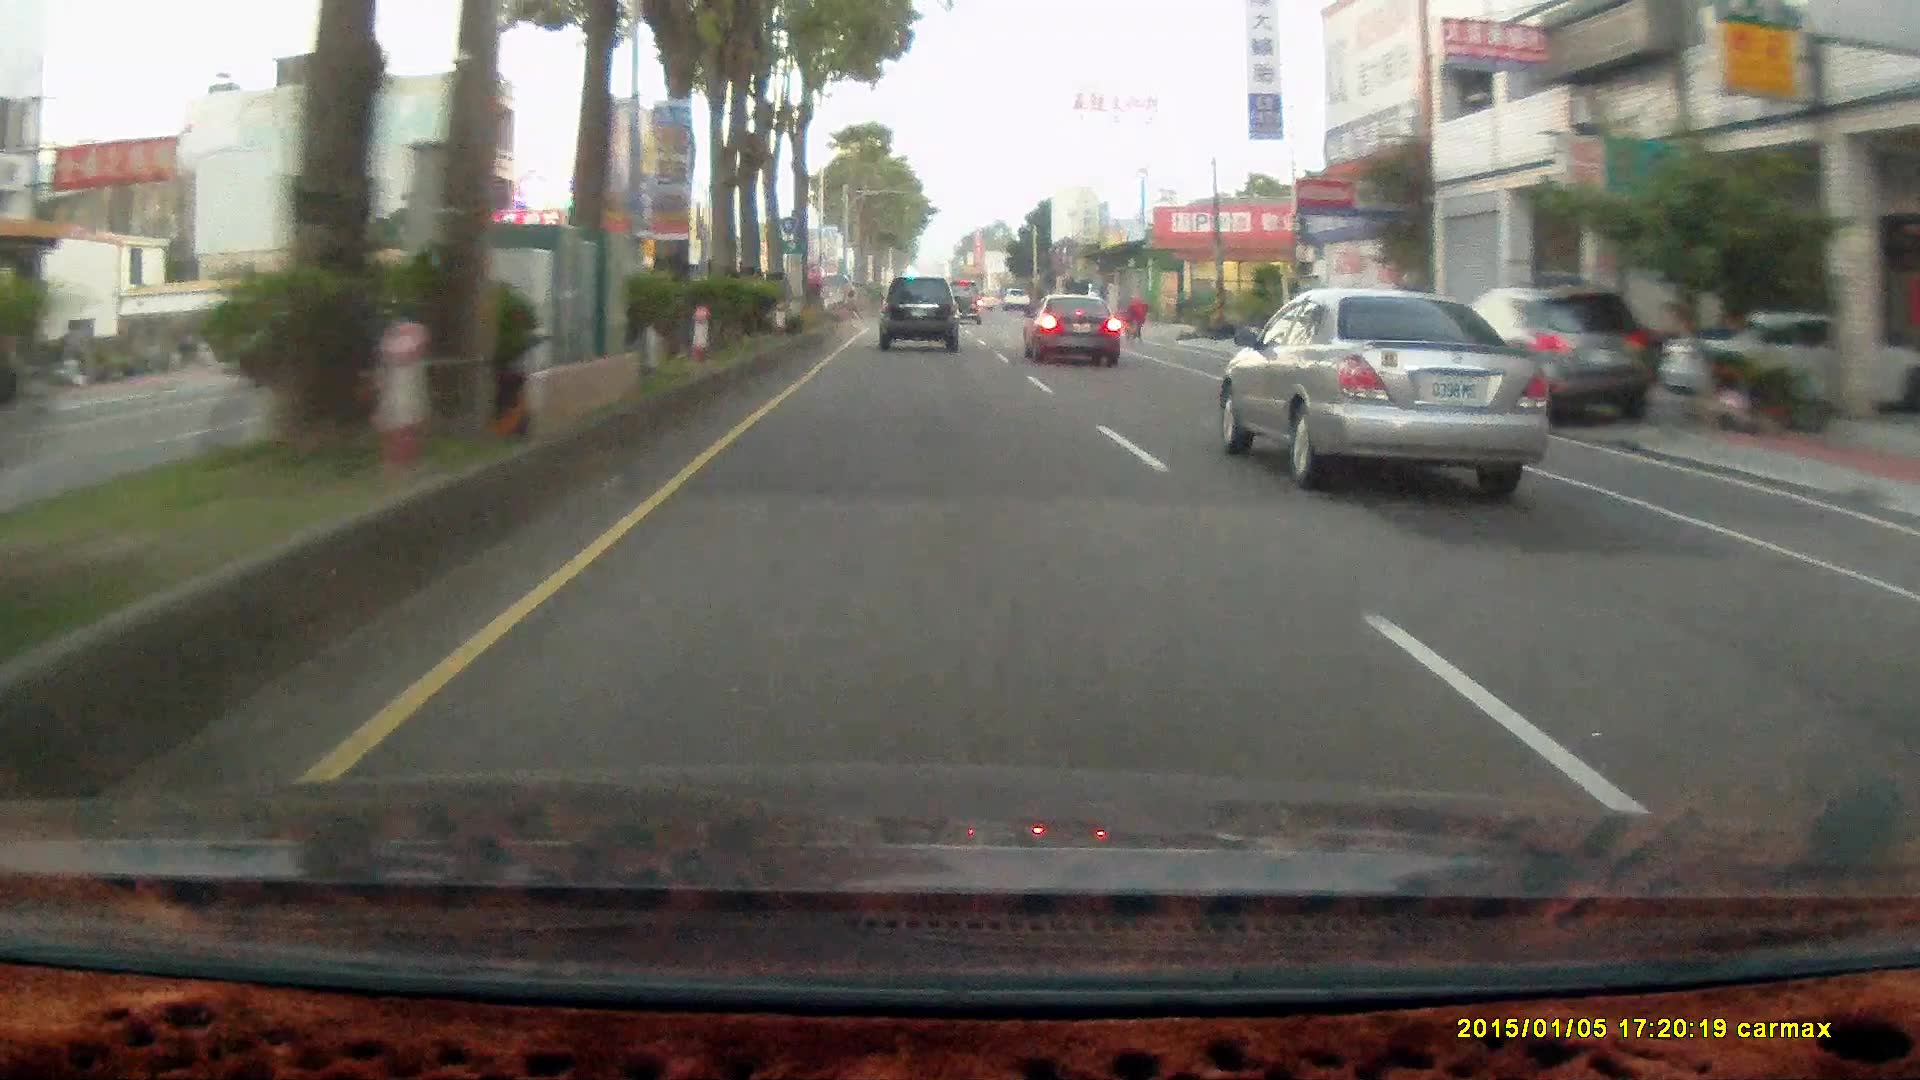pedestrian: (1126, 291, 1147, 340), (1129, 290, 1149, 338)
vehicle: (1218, 291, 1545, 479), (1432, 284, 1665, 426), (1425, 283, 1658, 425), (1663, 306, 1920, 415), (1022, 292, 1124, 369), (1021, 289, 1120, 365), (878, 278, 966, 352), (877, 275, 958, 350), (944, 282, 985, 327)
